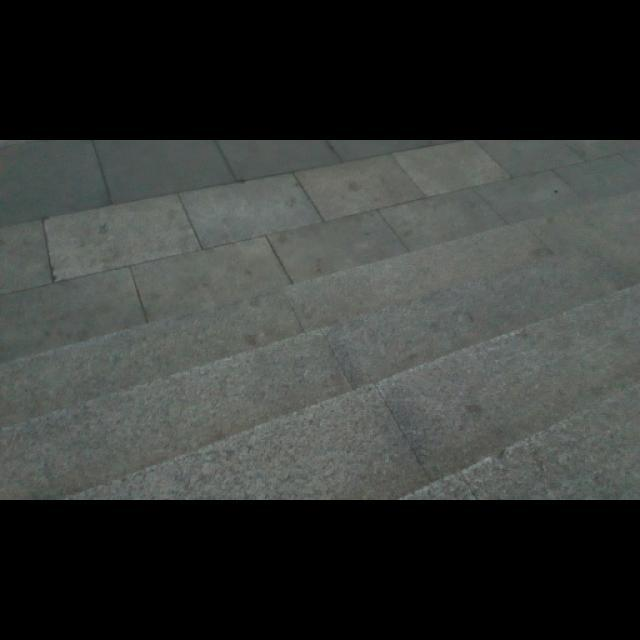stair: (46, 262, 640, 490)
